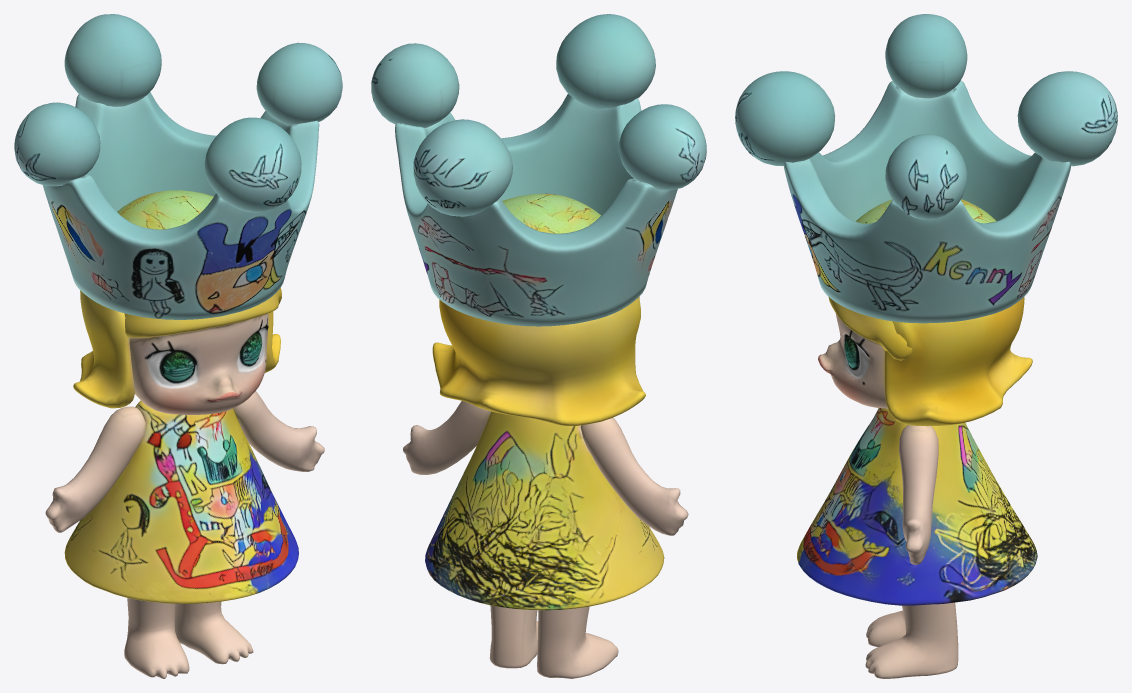
Rendered from base_basic_pbr.glb.
3 views of the same model, side by side, from view 1: azimuth 30°, elevation 25°; view 2: azimuth 150°, elevation 25°; view 3: azimuth 270°, elevation 25° (orthographic). The views are drawn at different scales.
Parts seen in each view (by area): view 1: root.0, root.1, root.2, root.5, root.4, root.7, root.6, root.3, root.8, root.9; view 2: root.0, root.1, root.3, root.2, root.4, root.5, root.7, root.6, root.8, root.9; view 3: root.0, root.1, root.3, root.2, root.5, root.4, root.7, root.6, root.9.
Part boxes in pixels (x1,y1,x2,y2): root.0: (42, 92, 319, 319); root.1: (64, 400, 298, 603); root.2: (117, 190, 281, 678); root.5: (204, 117, 301, 212); root.4: (64, 14, 161, 106); root.7: (14, 102, 100, 186); root.6: (256, 42, 342, 125); root.3: (73, 290, 280, 408); root.8: (45, 406, 145, 532); root.9: (233, 391, 324, 471); root.0: (395, 94, 677, 326); root.1: (425, 411, 664, 610); root.3: (432, 297, 645, 425); root.2: (489, 193, 639, 678); root.4: (413, 119, 512, 216); root.5: (556, 14, 655, 109); root.7: (618, 104, 706, 190); root.6: (371, 43, 459, 127); root.8: (580, 417, 688, 535); root.9: (403, 401, 491, 474); root.0: (783, 80, 1071, 323); root.1: (797, 408, 1037, 605); root.3: (884, 297, 1032, 426); root.2: (818, 199, 996, 678); root.5: (735, 71, 835, 165); root.4: (1017, 71, 1117, 166); root.7: (885, 14, 967, 98); root.6: (885, 134, 967, 219); root.9: (898, 425, 938, 564).
Bounding box in the file's own units: 1.09 × 1.9 × 1.13.
Materials: 10 (10 with a texture image).
